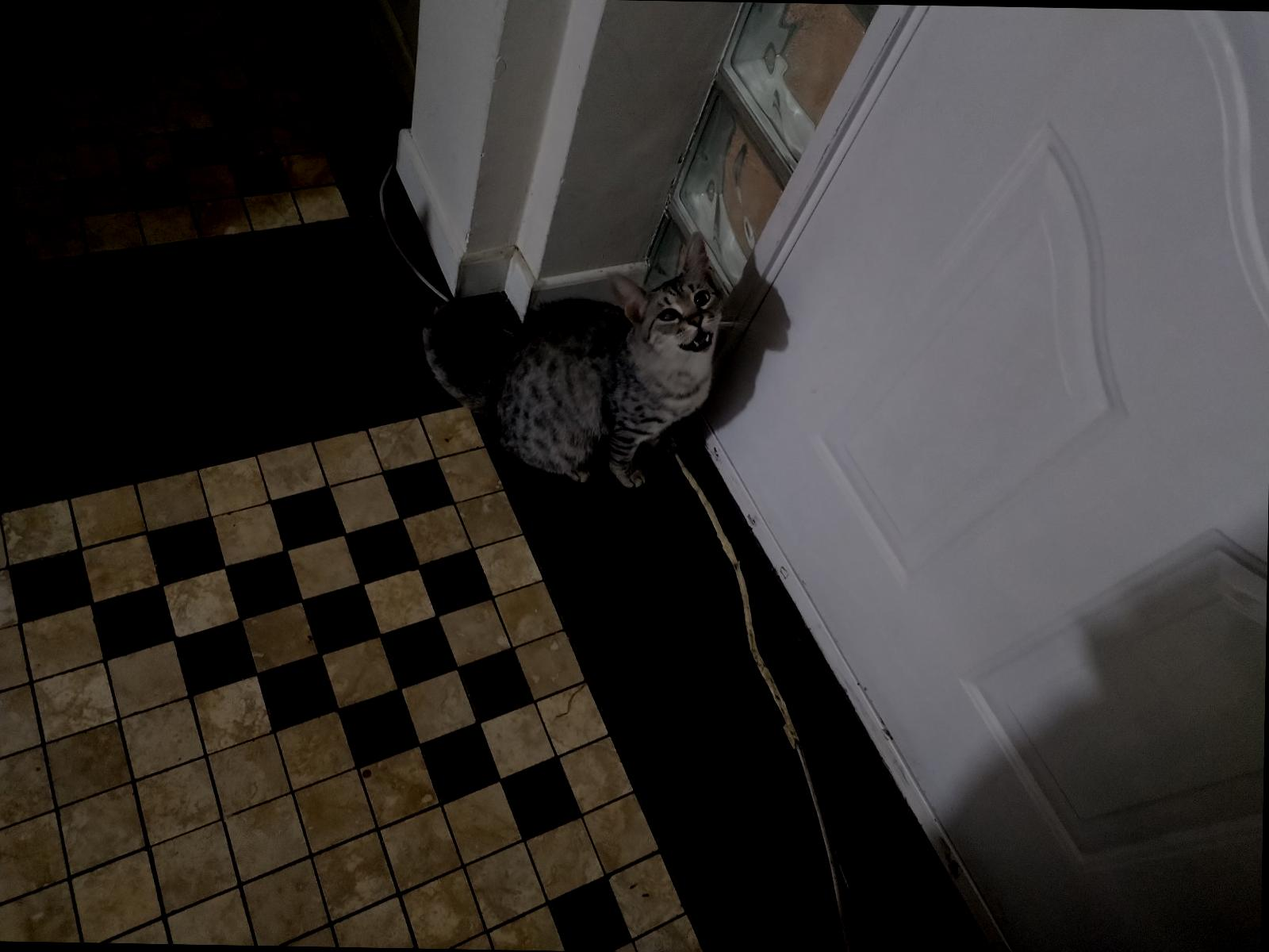macka: (417, 227, 730, 488)
